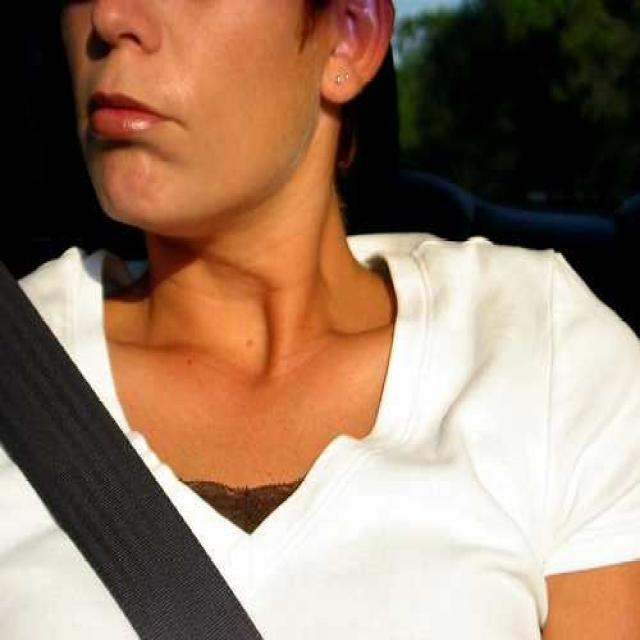seatbelt: (5, 250, 247, 636)
